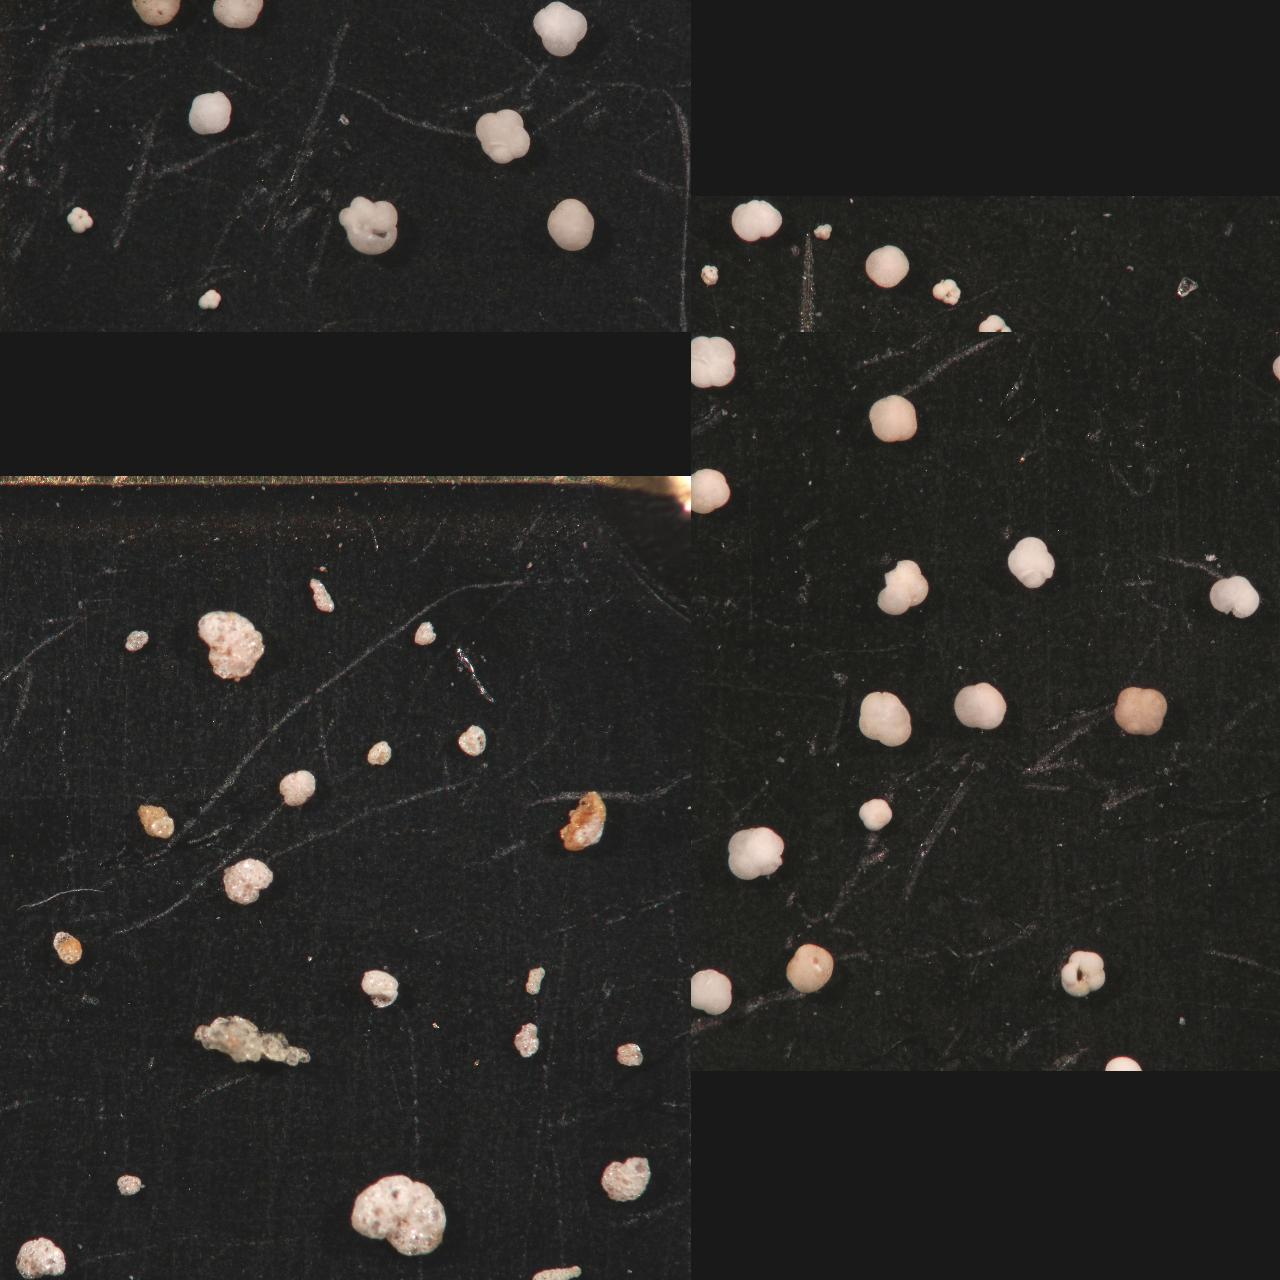Sediment: (1175, 274, 1199, 295)
agglutinated: (348, 1173, 445, 1254), (192, 1012, 312, 1065), (196, 610, 264, 679), (0, 1098, 28, 1251), (0, 777, 47, 859), (559, 790, 607, 851), (220, 857, 273, 905), (599, 1153, 651, 1201), (15, 1237, 67, 1278), (0, 1132, 42, 1180), (360, 969, 399, 1007), (278, 769, 318, 805), (137, 803, 175, 837), (52, 930, 82, 964), (307, 576, 336, 611), (512, 1021, 539, 1056), (456, 724, 486, 754), (530, 1264, 583, 1280), (0, 799, 19, 839), (366, 737, 393, 764), (0, 892, 20, 928), (0, 1030, 18, 1069), (0, 645, 16, 683), (123, 627, 150, 651), (524, 966, 547, 993), (615, 1042, 642, 1065), (0, 699, 16, 733), (116, 1173, 142, 1194), (414, 620, 436, 644), (0, 1009, 18, 1034), (0, 753, 14, 779), (0, 645, 14, 670), (0, 610, 11, 644), (0, 768, 14, 792), (0, 810, 13, 835)
planktic: (338, 193, 399, 256), (474, 105, 532, 165), (529, 0, 590, 57), (727, 824, 785, 883), (874, 556, 931, 617), (856, 689, 912, 747), (952, 680, 1010, 733), (1112, 685, 1170, 737), (783, 941, 837, 995), (1006, 533, 1058, 588), (545, 195, 597, 251), (1056, 947, 1110, 996), (867, 392, 919, 442), (1207, 572, 1261, 620), (692, 333, 737, 387), (730, 198, 784, 241), (864, 241, 911, 287), (692, 967, 736, 1015), (188, 89, 233, 135), (692, 465, 733, 515), (692, 790, 722, 852), (234, 0, 291, 29), (482, 0, 537, 29), (212, 0, 266, 29), (692, 644, 721, 694), (129, 0, 183, 26), (857, 797, 896, 831), (692, 563, 716, 610), (692, 224, 715, 266), (692, 292, 715, 332), (692, 745, 712, 789), (931, 277, 961, 305), (692, 625, 713, 662), (64, 205, 95, 231), (978, 312, 1015, 332), (1102, 1053, 1144, 1069), (196, 287, 223, 309), (699, 263, 722, 286), (810, 219, 836, 240), (692, 307, 713, 332), (692, 195, 714, 213), (692, 263, 703, 282), (692, 195, 704, 203)
